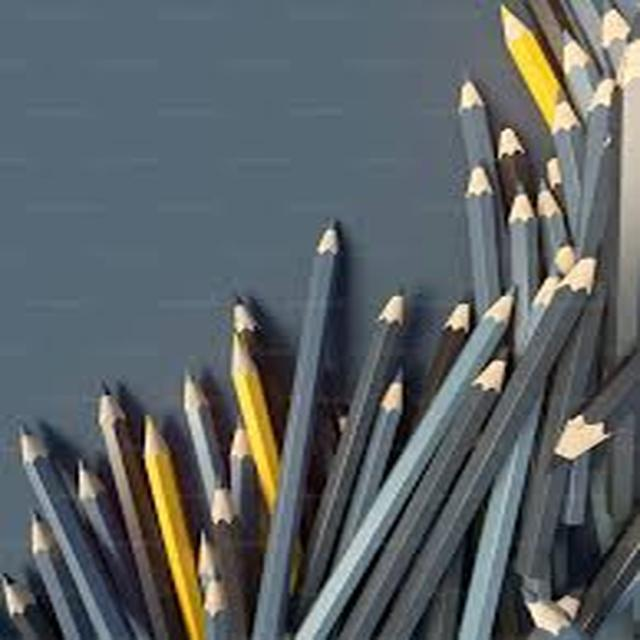pen: (233, 177, 404, 626), (346, 285, 448, 640), (232, 286, 308, 628), (92, 360, 172, 640), (166, 378, 244, 640), (450, 51, 532, 300), (448, 301, 504, 630), (522, 145, 568, 510), (15, 400, 76, 640), (550, 332, 640, 462), (68, 446, 116, 640), (488, 6, 548, 150), (458, 142, 494, 356), (552, 92, 578, 262), (36, 510, 66, 640), (609, 84, 626, 281), (580, 72, 614, 160), (522, 597, 570, 640), (2, 565, 28, 640), (564, 24, 588, 100), (600, 9, 636, 45)
